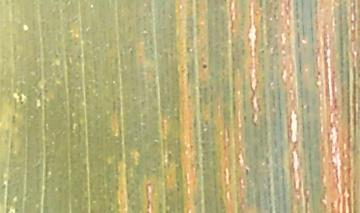tarspot: (198, 59, 211, 75)
